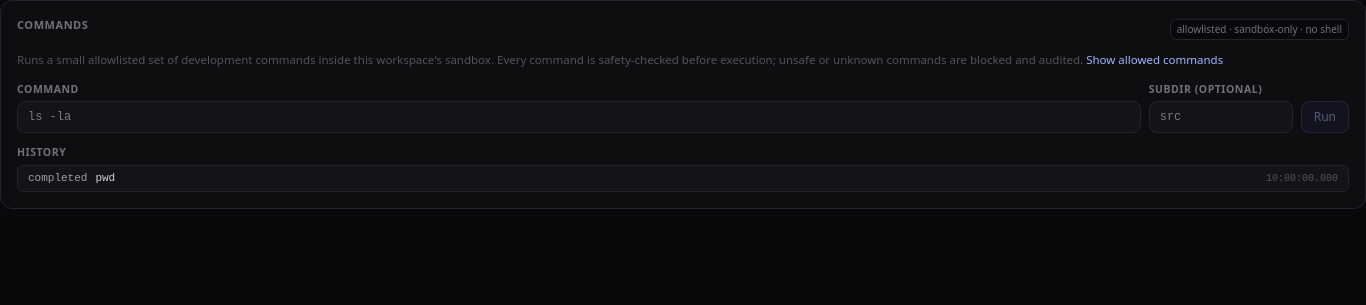
it: SandboxCommandsPanel › renders the blocked reason when a command is rejected
Type "rm -rf /" into the field with placeholder "ls -la" at (579,117), box [17,101,1141,133]
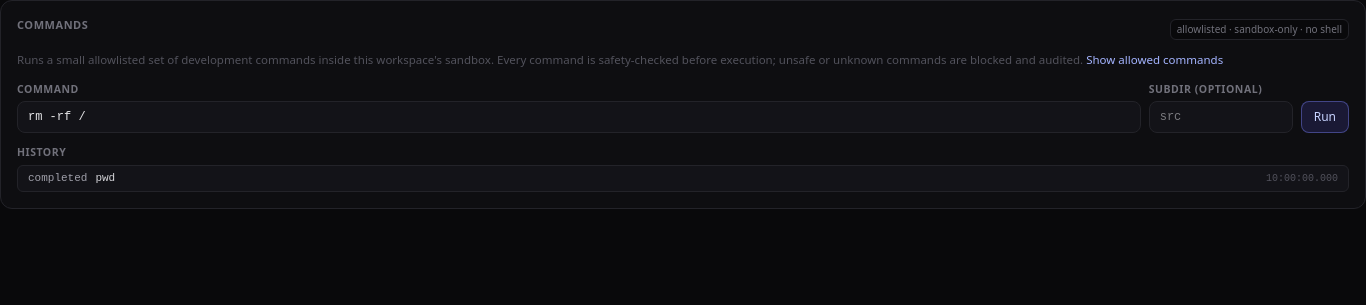
Click the button "Run" at (1325,117), box [1301,101,1349,133]
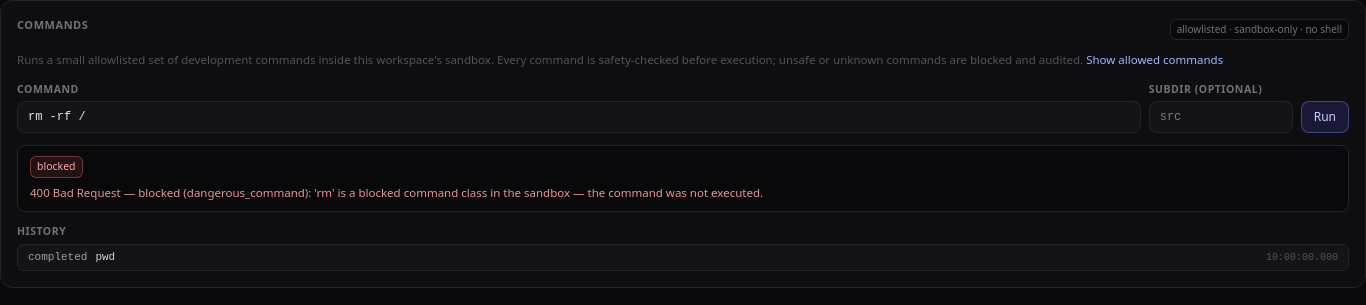
expect the text with test id "blocked-reason" shows "blocked (dangerous_command)": met, box [30,185,570,200]
expect the text with test id "blocked-reason" shows "not executed": met, box [570,185,763,200]
